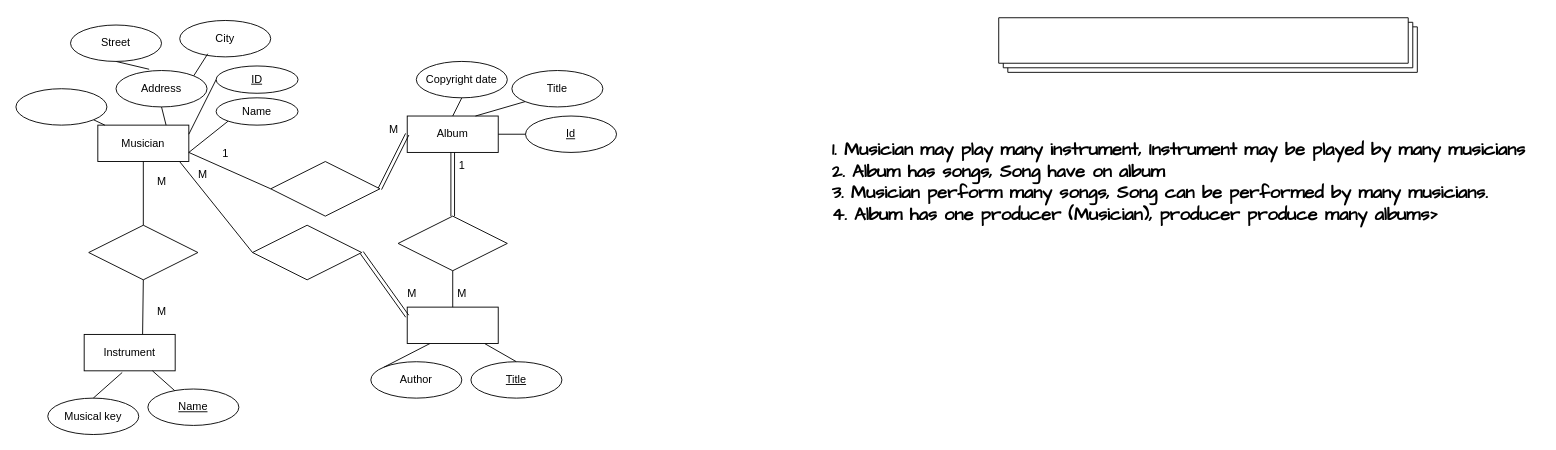
The diagram is 1556 pixels wide and 450 high, and some of its shapes have lost their labels. Each missing label, with the centre of its shape:
"Has" belongs at [452,243].
"Perform" belongs at [307,252].
"Phone" belongs at [61,106].
"Play" belongs at [143,252].
"Produce" belongs at [325,188].
"Relationships" belongs at [1207,44].
"Song" belongs at [452,325].
